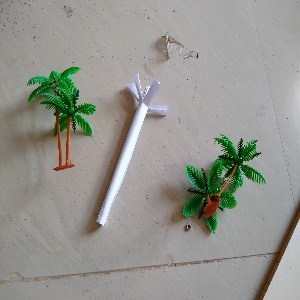plant: (25, 66, 99, 171), (185, 135, 261, 234)
weed: (97, 77, 164, 233)
